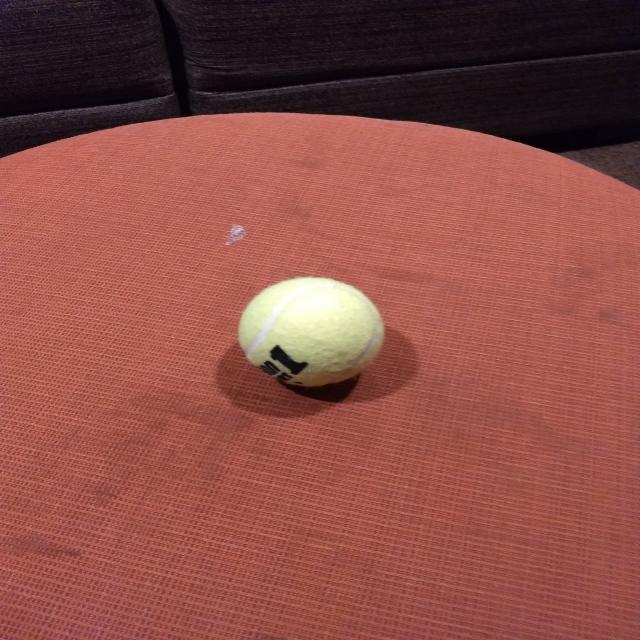Tennis-Ball: (234, 276, 394, 392)
